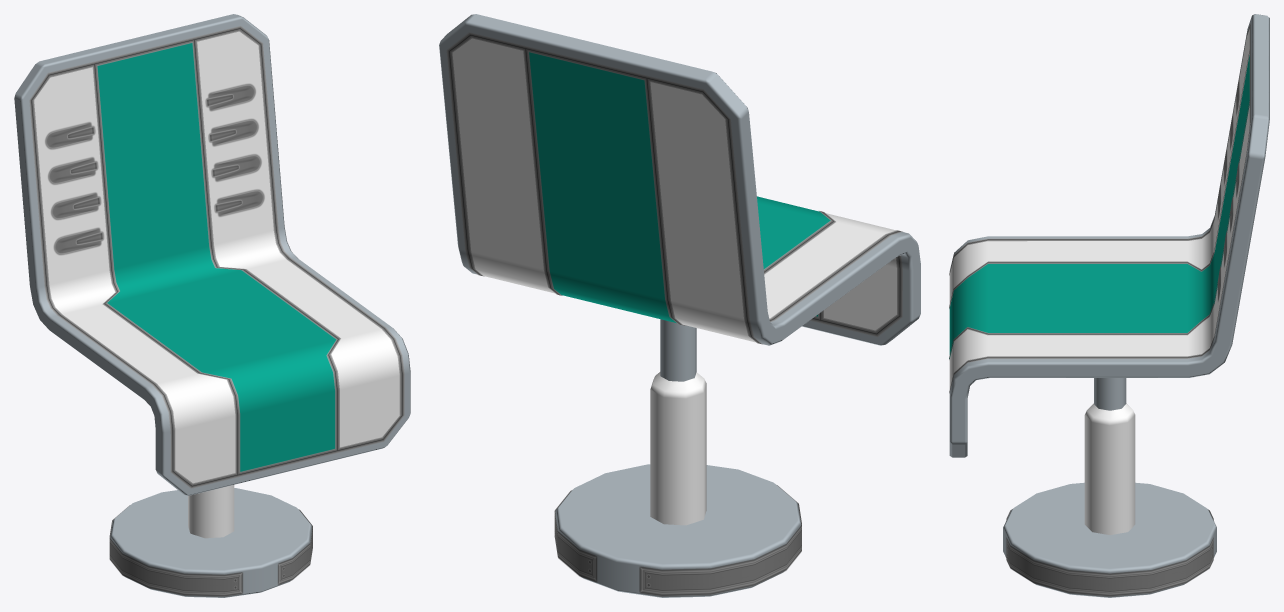
Rendered from wardroom-chair.glb.
3 renders of one model, left to right at view 1: azimuth 30°, elevation 25°; view 2: azimuth 150°, elevation 25°; view 3: azimuth 270°, elevation 25°, orthographic. The views are drawn at different scales.
Parts seen in each view (by area): view 1: Chair002_Color3_0, Chair002_Color2_0, Chair002_Color1_0, Chair002_d; view 2: Chair002_Color2_0, Chair002_Color1_0, Chair002_Color3_0, Chair002_d; view 3: Chair002_Color1_0, Chair002_Color2_0, Chair002_Color3_0, Chair002_d.
Boxes of the visible parts, bbox=[...] form: Chair002_Color3_0: bbox=[97, 43, 336, 471]; Chair002_Color2_0: bbox=[34, 31, 399, 538]; Chair002_Color1_0: bbox=[14, 14, 410, 597]; Chair002_d: bbox=[29, 26, 404, 596]; Chair002_Color2_0: bbox=[452, 38, 896, 525]; Chair002_Color1_0: bbox=[439, 14, 920, 597]; Chair002_Color3_0: bbox=[529, 52, 830, 322]; Chair002_d: bbox=[446, 32, 902, 596]; Chair002_Color1_0: bbox=[949, 14, 1269, 597]; Chair002_Color2_0: bbox=[949, 29, 1250, 535]; Chair002_Color3_0: bbox=[949, 55, 1249, 358]; Chair002_d: bbox=[949, 23, 1250, 596].
Size of the model in its own units: 0.625 by 1.12 by 0.6626.
4 materials, 1 textured.
